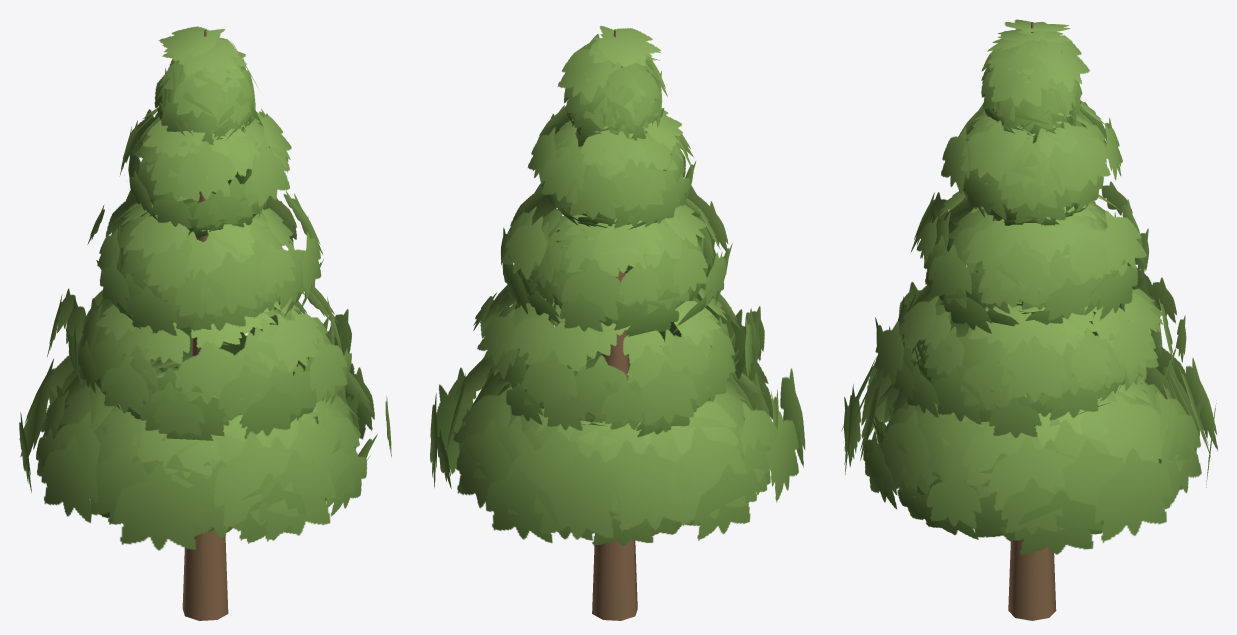
Rendered from pine-83.glb.
3 renders of one model, left to right at view 1: azimuth 30°, elevation 25°; view 2: azimuth 150°, elevation 25°; view 3: azimuth 270°, elevation 25°, orthographic.
Parts seen in each view (by area): view 1: tiered pine; view 2: tiered pine; view 3: tiered pine.
Boxes of the visible parts, x1,y1,x2,y2 form: tiered pine: (19,26,391,620); tiered pine: (430,26,805,620); tiered pine: (841,19,1217,620).
Size of the model in its own units: 3.89 by 6.5 by 3.88.
1 material, 1 textured.
